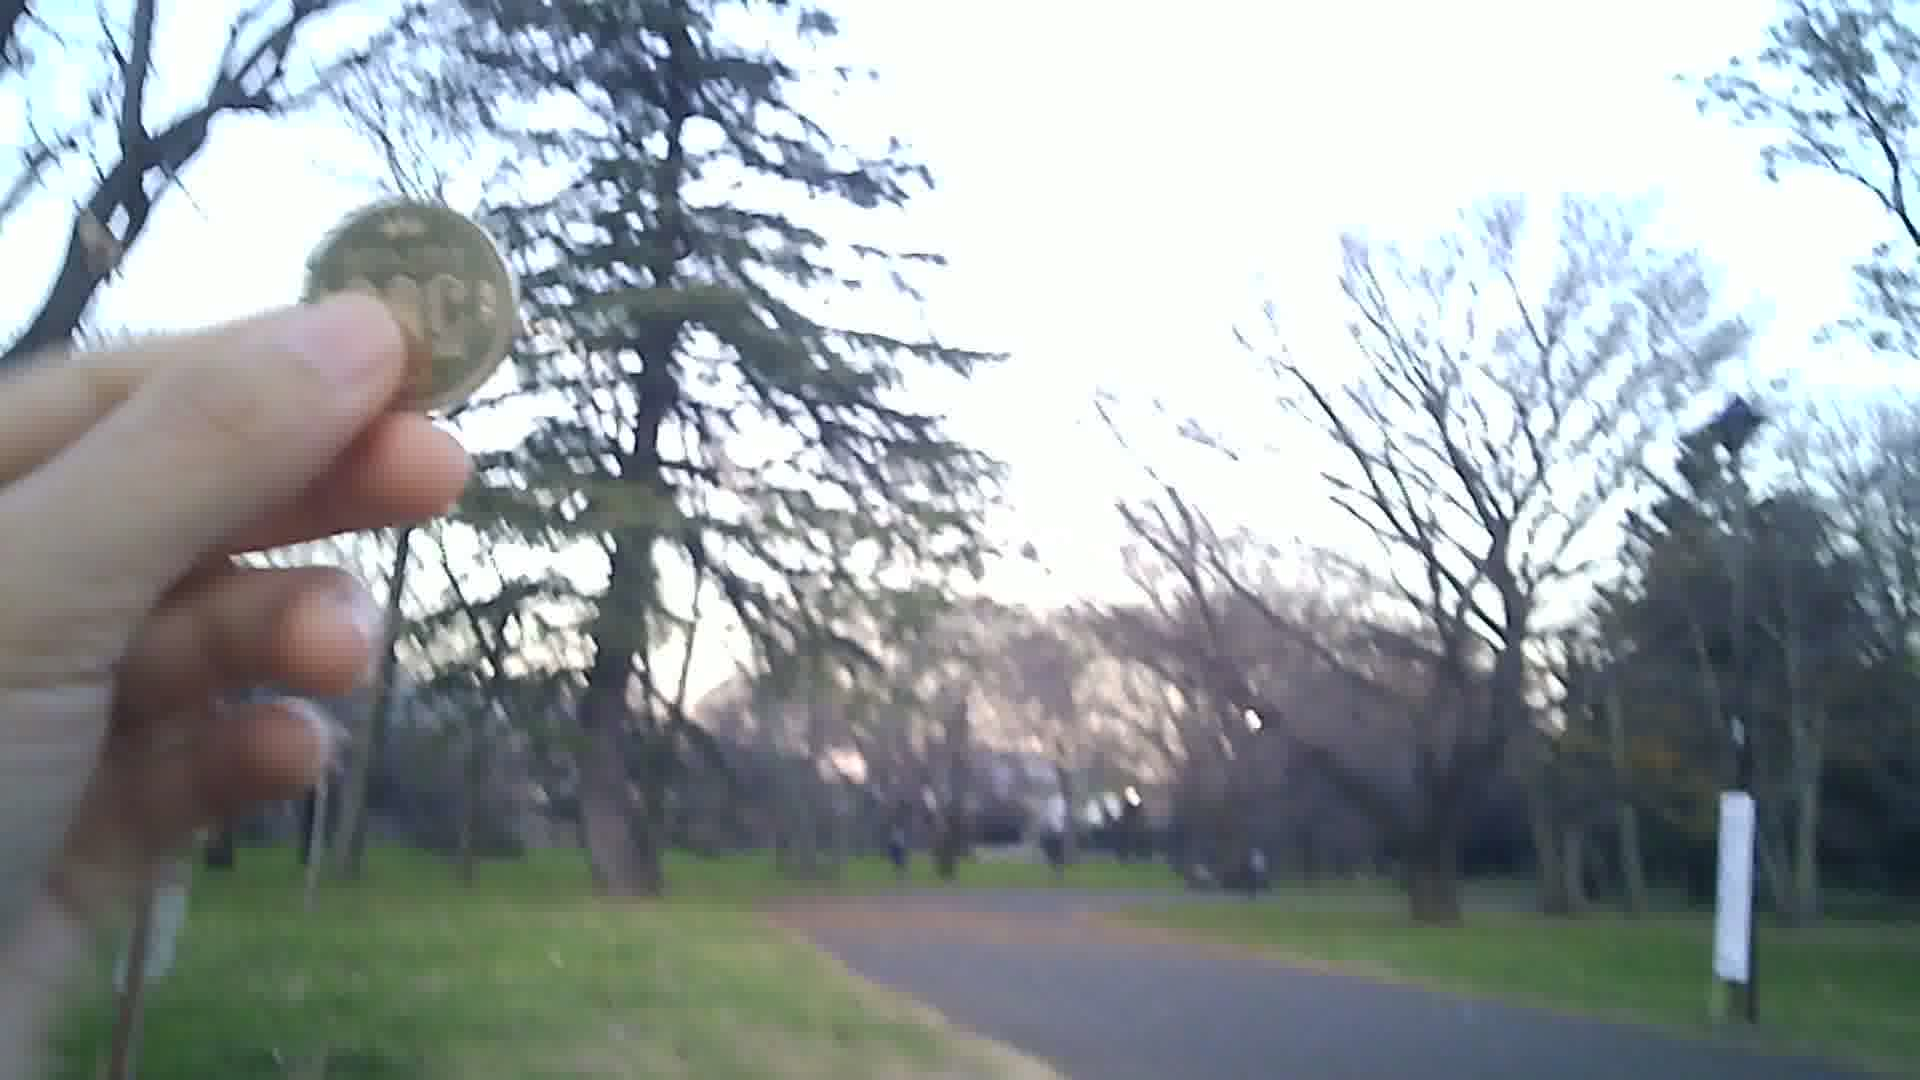500 Yen: (297, 196, 520, 411)
